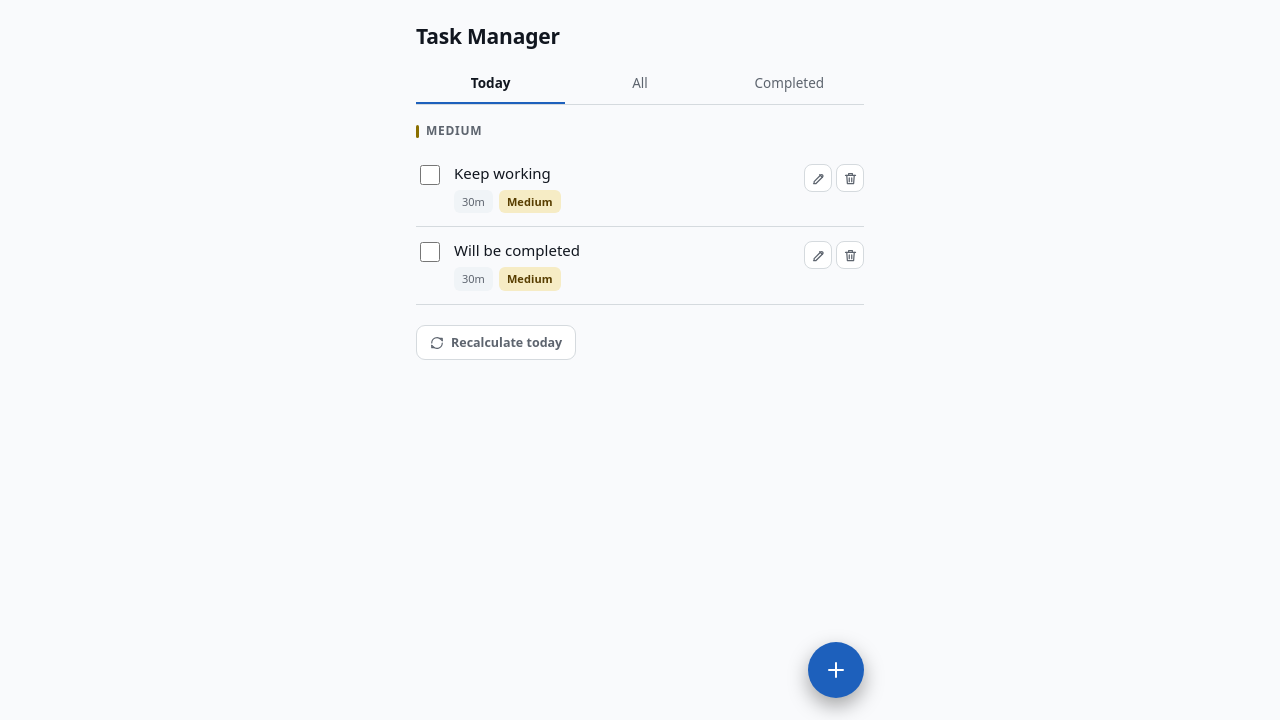
Test case: manual recalculation (10.4) › rebuilds the plan from scratch, admitting newly created tasks and dropping completed ones
Expected: the button named "Add a task" is shown, [808,642,864,698]
Click the checkbox labelled "Will be completed" at (430, 252), box [420,242,440,262]
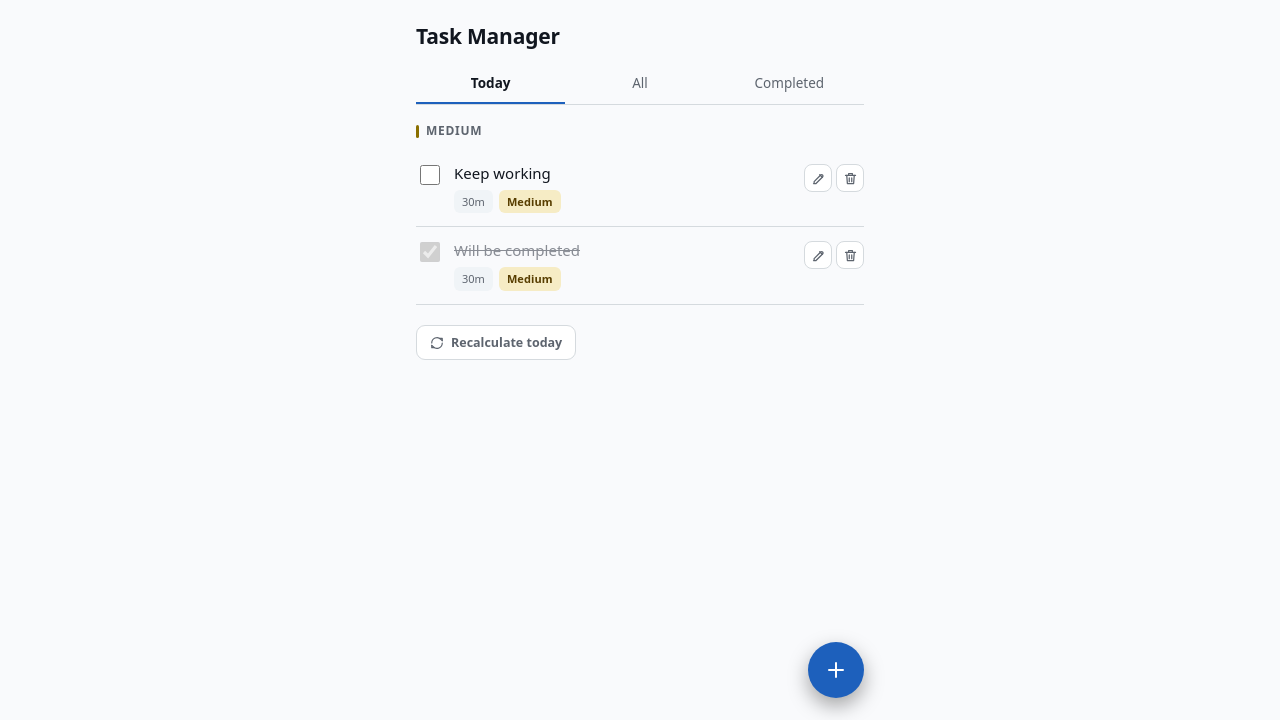
Click the button named "Add a task" at (836, 670), box [808,642,864,698]
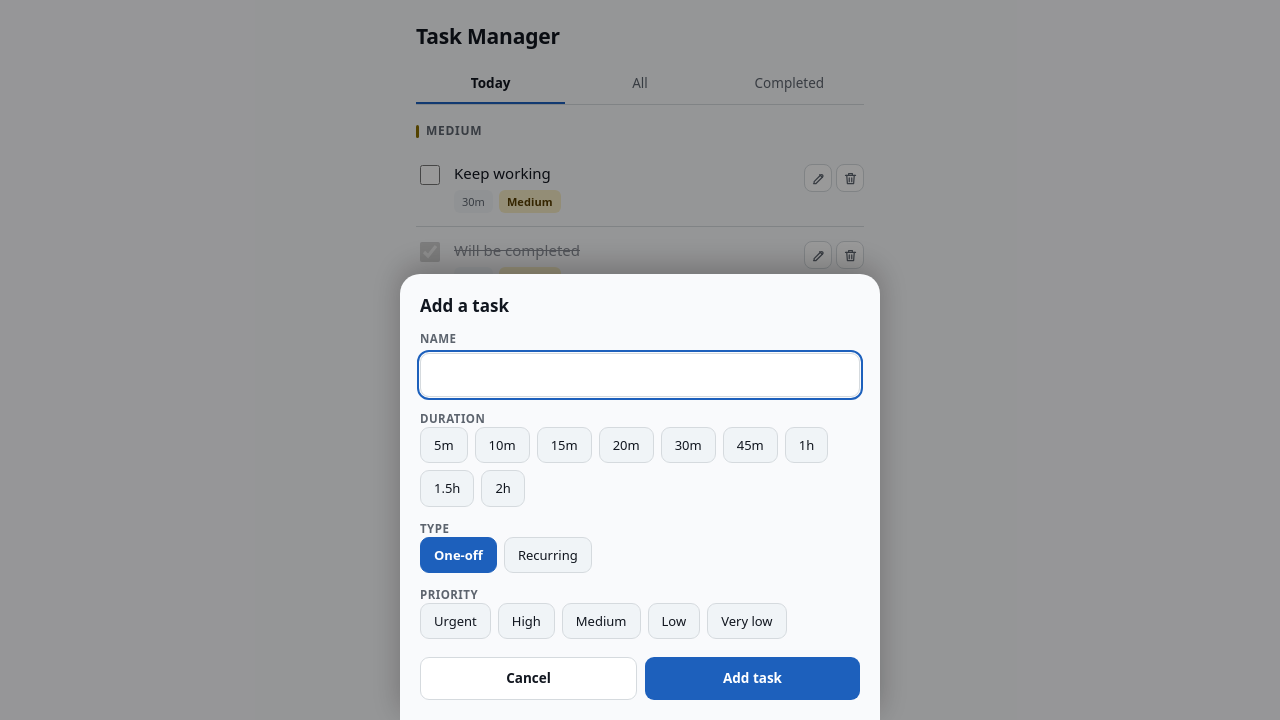
Type "Newly eligible" into the field labelled "Name" at (640, 375), box [420,354,860,397]
Click the button "15m" at (564, 445), box [537,427,592,463]
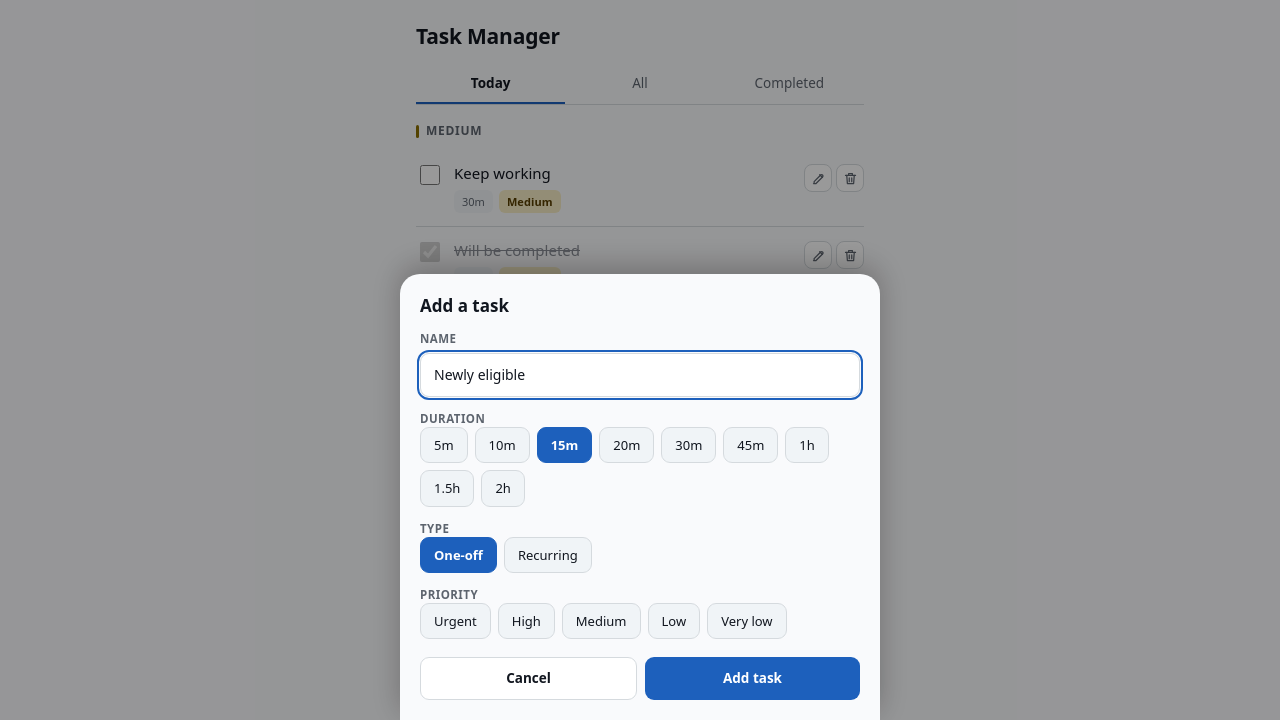
Click the button "Low" at (674, 621), box [648,603,700,639]
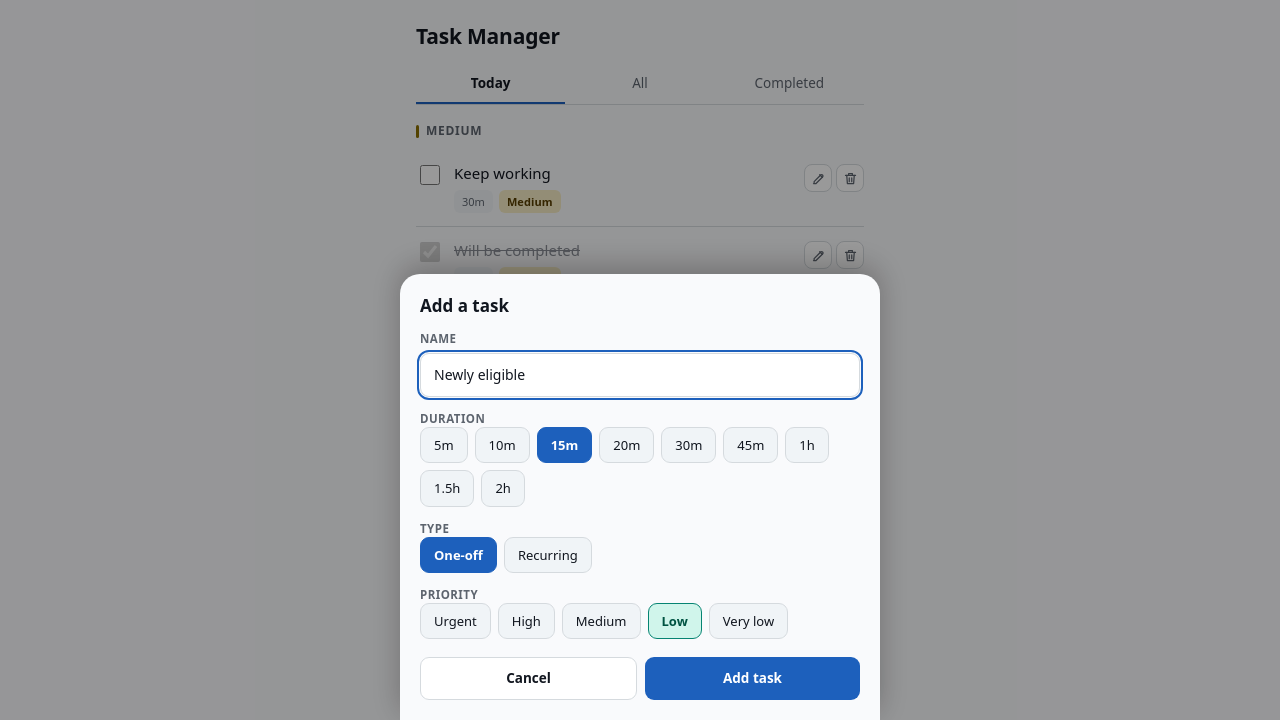
Click the button "Add task" at (752, 679), box [645,657,860,700]
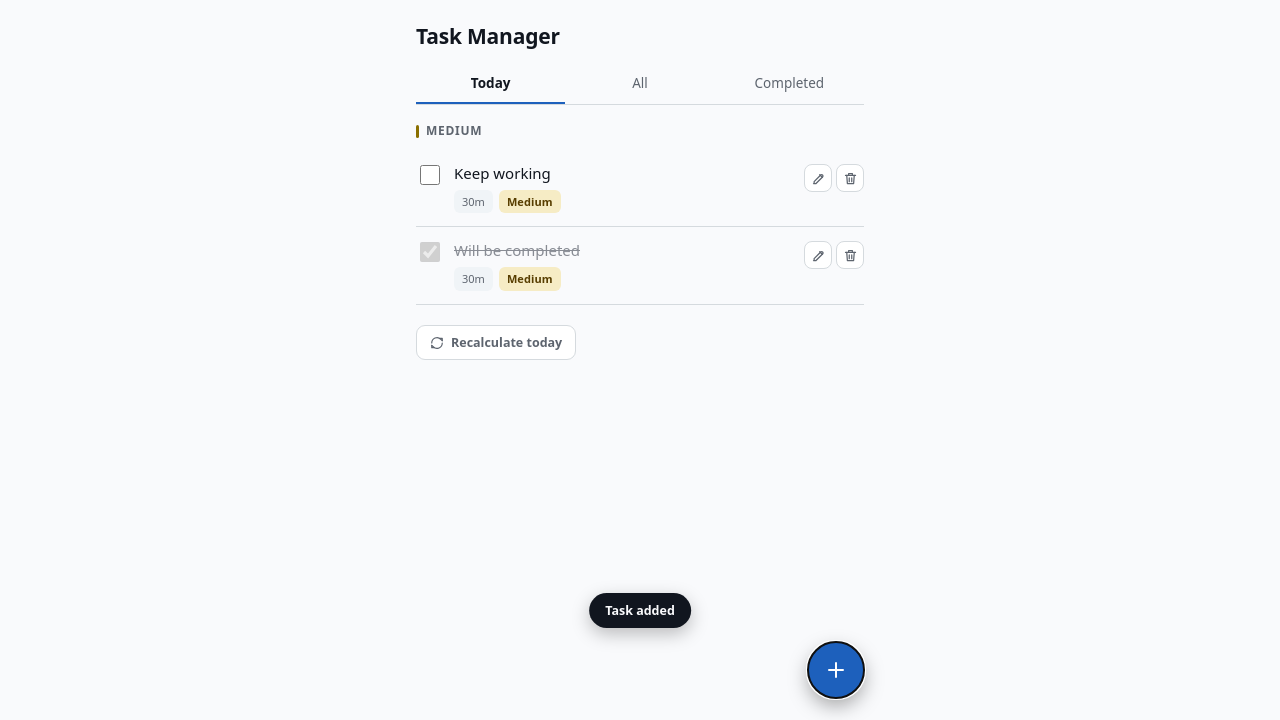
Expected: the text "Newly eligible" is not shown
Click the button "Recalculate today" at (496, 343), box [416,325,576,360]
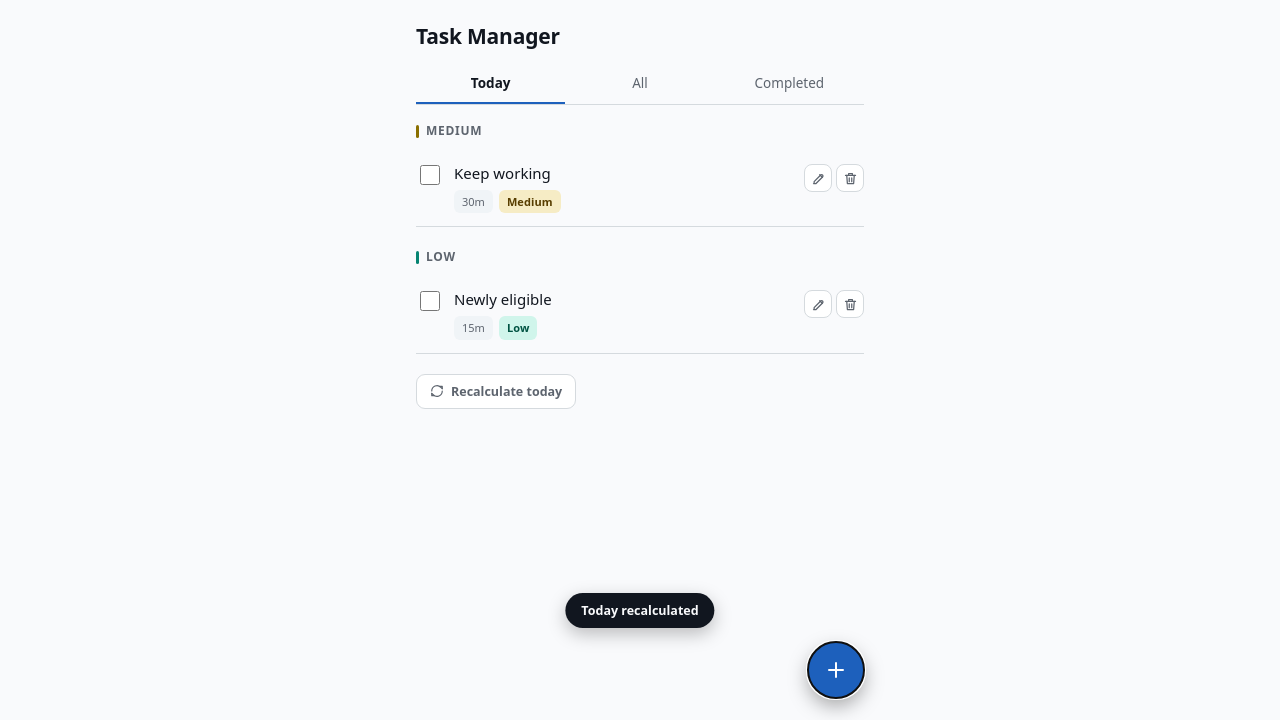
Expected: the text "Keep working" is shown, [454,163,551,183]
Result: the text "Will be completed" is gone
Result: the text "Newly eligible" is shown at [454,289,552,309]
